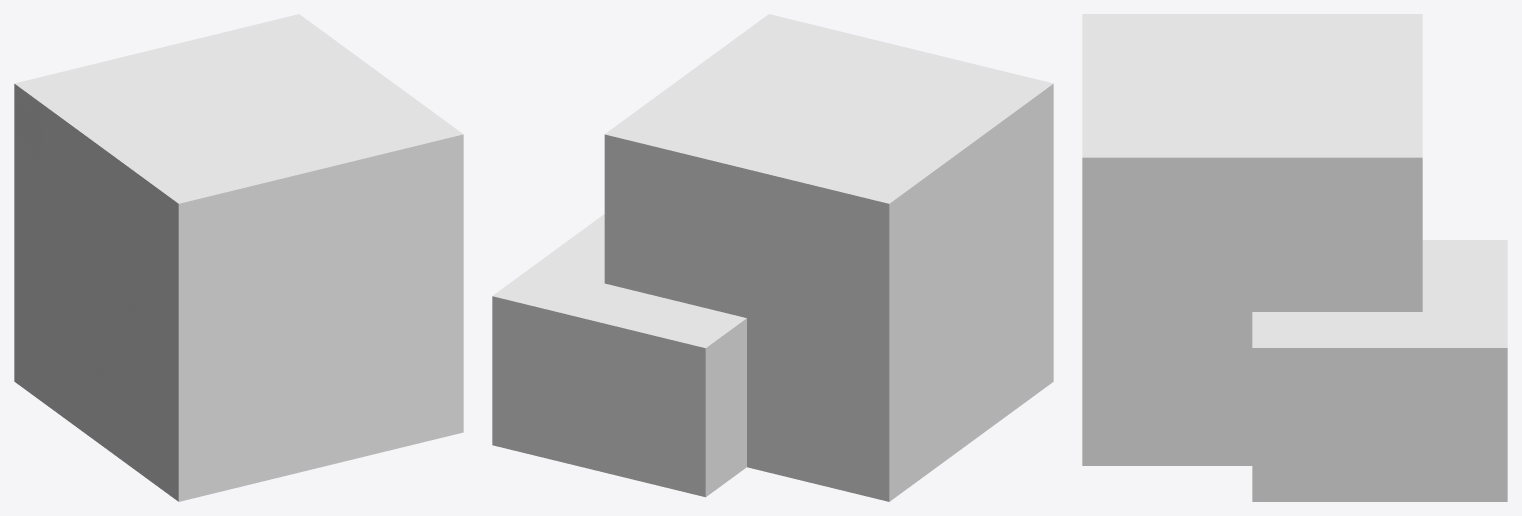
The model's file is Object_Stone.obj.
3 renders of one model, left to right at view 1: azimuth 30°, elevation 25°; view 2: azimuth 150°, elevation 25°; view 3: azimuth 270°, elevation 25°, orthographic. The views are drawn at different scales.
Bounding box in the file's own units: 0.5 × 0.4 × 0.5.
